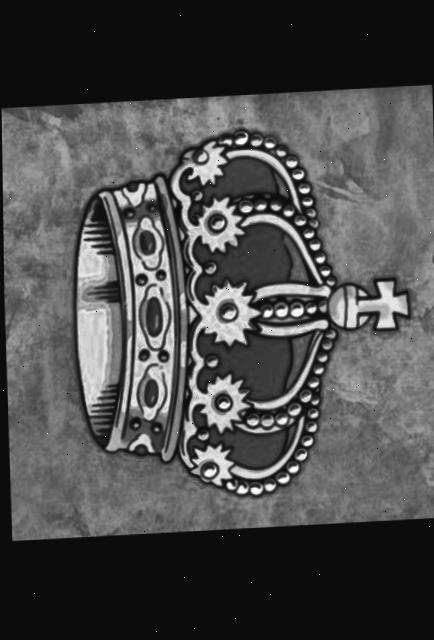La Corona: (1, 86, 434, 541)
